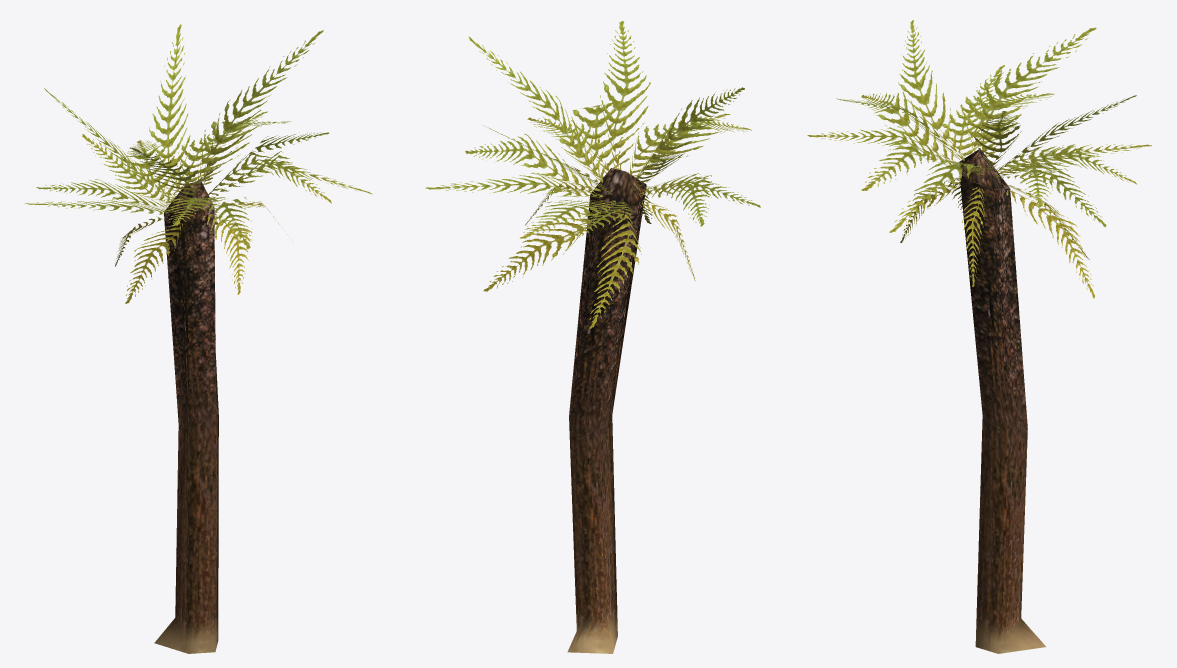
Rendered from M5_Palm02.glb.
The picture shows the model from 3 angles, left to right: view 1: azimuth 30°, elevation 25°; view 2: azimuth 150°, elevation 25°; view 3: azimuth 270°, elevation 25°; orthographic projection. The views are drawn at different scales.
Parts seen in each view (by area): view 1: M5_PALM02; view 2: M5_PALM02; view 3: M5_PALM02.
Part boxes in pixels (x1,y1,x2,y2): M5_PALM02: (25, 24, 372, 653); M5_PALM02: (425, 21, 760, 653); M5_PALM02: (807, 20, 1151, 653).
Bounding box in the file's own units: 2.37 × 4.2 × 2.31.
Materials: 2 (2 with a texture image).
